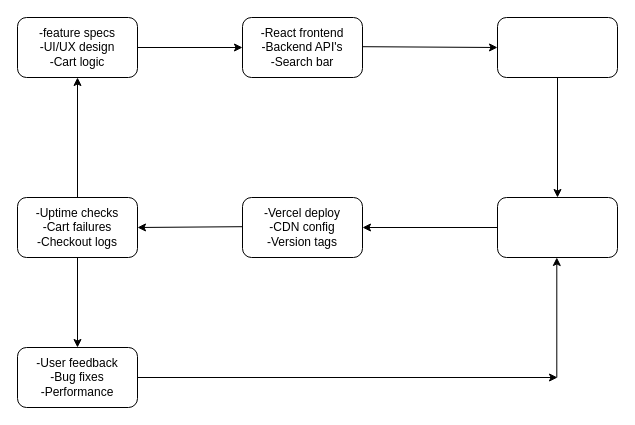
Some shapes in this 635 by 425 pixel diagram are drawn without their labels. The shapes that lost their labels are listed below. From the top down, each one's centre as x and y in pixels, then its label:
At (557,47): "-Vercel build -Tailwind CSS -Optimized JS".
At (557,227): "-Unit tests -UI snapshots -API mocks".
